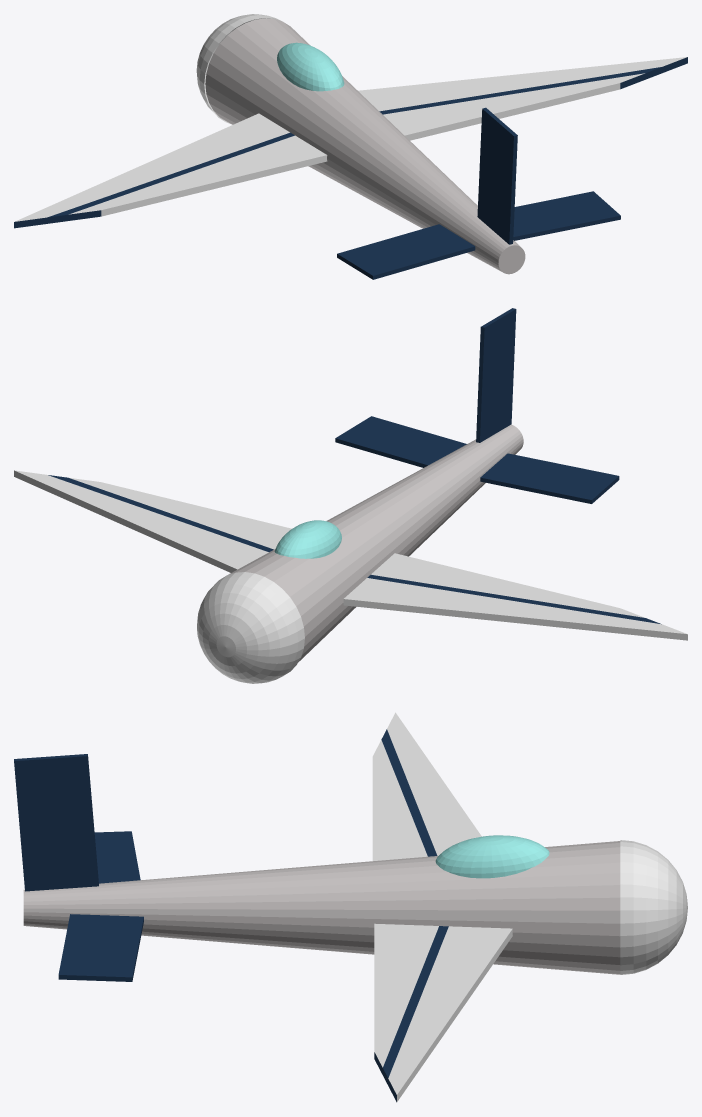
3 views of the same model, one above another, from view 1: azimuth 30°, elevation 25°; view 2: azimuth 150°, elevation 25°; view 3: azimuth 270°, elevation 25° (orthographic). The views are drawn at different scales.
Visible parts, largest first — view 1: Plane Body, Wing.001, Wing, Fin.002, Fin, Fin.001, Cockpit, Nose; view 2: Plane Body, Wing.001, Wing, Nose, Fin.002, Fin, Fin.001, Cockpit; view 3: Plane Body, Wing, Fin.002, Wing.001, Nose, Fin.001, Cockpit, Fin.
Part boxes in pixels (<box>): Plane Body: <box>205,18,525,274</box>; Wing.001: <box>14,113,327,228</box>; Wing: <box>358,57,687,140</box>; Fin.002: <box>477,107,517,244</box>; Fin: <box>337,224,475,279</box>; Fin.001: <box>513,191,620,240</box>; Cockpit: <box>277,42,344,91</box>; Nose: <box>196,14,281,123</box>; Plane Body: <box>214,424,523,661</box>; Wing.001: <box>343,553,687,640</box>; Wing: <box>14,470,291,572</box>; Nose: <box>197,572,304,683</box>; Fin.002: <box>476,308,516,442</box>; Fin: <box>480,453,619,503</box>; Fin.001: <box>335,416,466,467</box>; Cockpit: <box>274,520,341,558</box>; Plane Body: <box>23,841,620,974</box>; Wing: <box>374,923,512,1102</box>; Fin.002: <box>14,754,98,891</box>; Wing.001: <box>372,712,481,860</box>; Nose: <box>620,840,687,974</box>; Fin.001: <box>58,914,143,981</box>; Cockpit: <box>435,835,549,878</box>; Fin: <box>94,831,140,883</box>.
Size of the model in its own units: 8.8 by 2.29 by 6.55.
